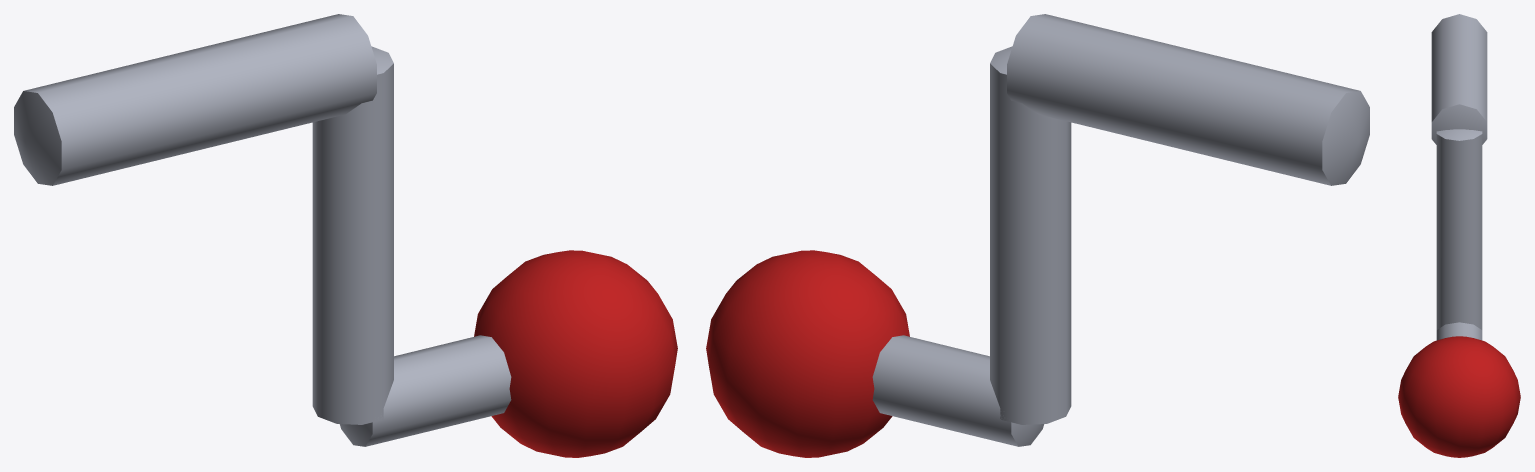
Rendered from Jack_CrankP.fbx.
3 views of the same model, side by side, from view 1: azimuth 30°, elevation 25°; view 2: azimuth 150°, elevation 25°; view 3: azimuth 270°, elevation 25° (orthographic). The views are drawn at different scales.
Parts seen in each view (by area): view 1: Jack_CrankP; view 2: Jack_CrankP; view 3: Jack_CrankP.
Part boxes in pixels (bbox=[...]): Jack_CrankP: bbox=[14, 14, 677, 457]; Jack_CrankP: bbox=[706, 14, 1369, 457]; Jack_CrankP: bbox=[1398, 14, 1520, 457].
Size of the model in its own units: 0.0811 by 0.059 by 0.023.
